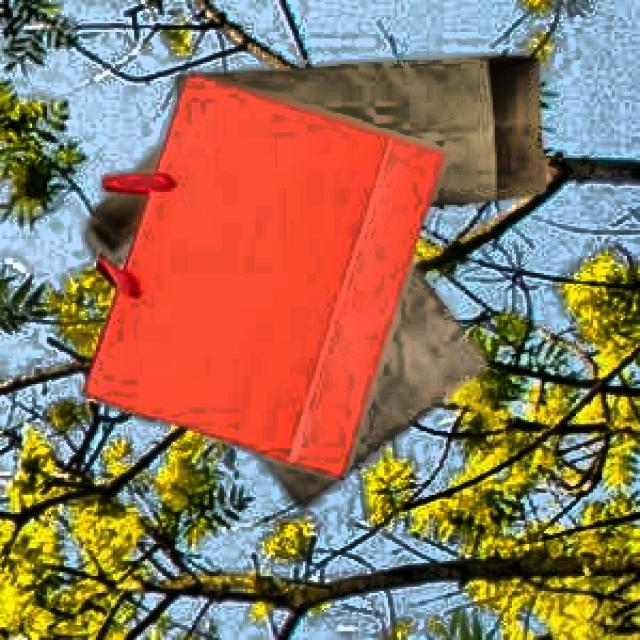Paper-bag: (82, 121, 493, 525), (68, 67, 451, 496), (143, 53, 556, 216)
